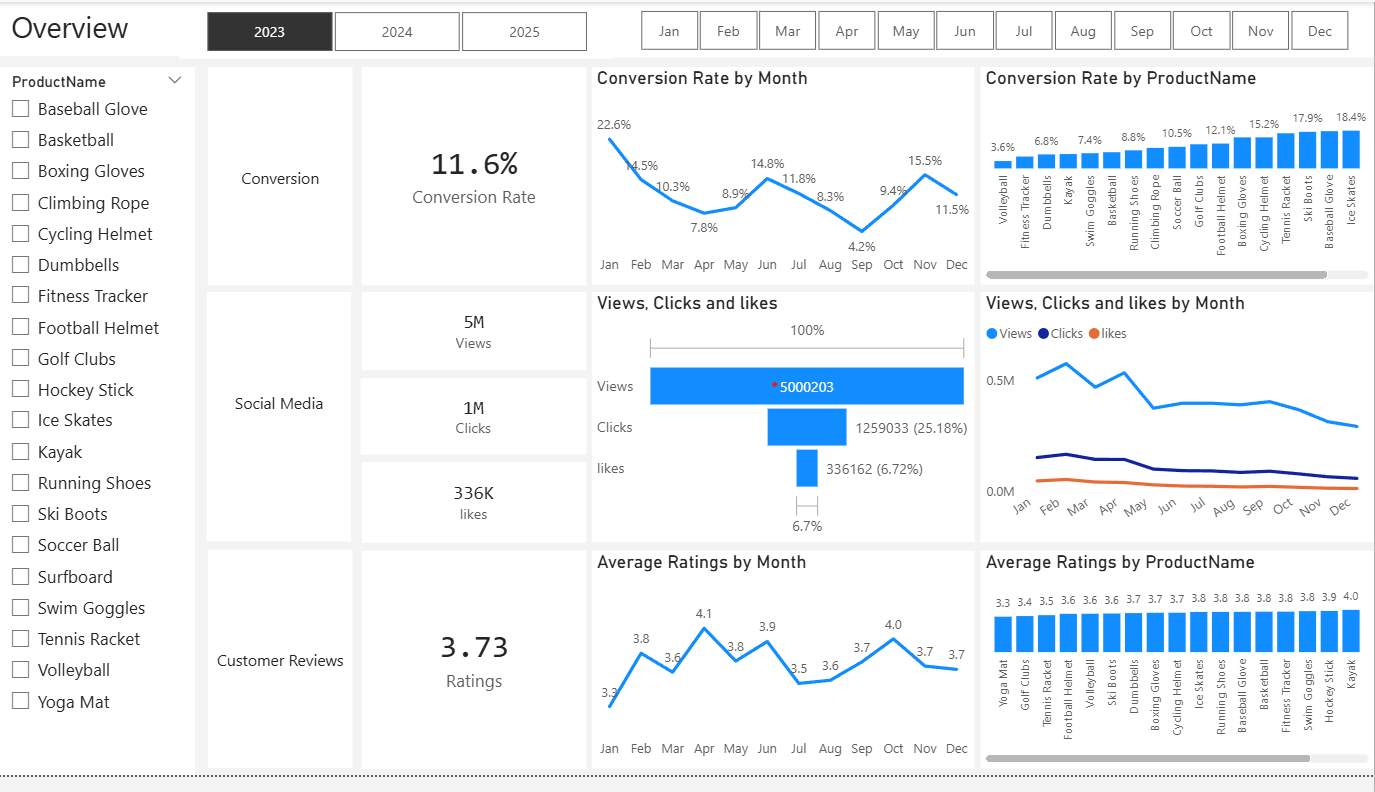

What the dashboard file says about the page in this screenshot:
{"tool":"powerbi","page":{"name":"Overview","canvas":[1280,720],"ordinal":0},"visuals":[{"type":"textbox","box":[0,0,1280.3,50.1],"z":0},{"type":"slicer","fields":{"Values":["Dim_Products.ProductName"]},"box":[0,59.9,183.4,660.3],"z":1000},{"type":"textbox","box":[195.7,59.9,134.5,203],"z":2000},{"type":"textbox","box":[195.7,509.9,134.5,203],"z":3000},{"type":"textbox","box":[194.4,270.2,134.5,232.3],"z":4000},{"type":"cardVisual","fields":{"Data":["Measures (2).Conversion_rate"]},"box":[338.7,59.9,209.1,203],"z":5000},{"type":"cardVisual","fields":{"Data":["Measures (2).Views"]},"box":[338.8,270,208.8,72.5],"z":6000},{"type":"cardVisual","fields":{"Data":["Measures (2).Average_Ratings"]},"box":[338.7,509.9,209.1,203],"z":7000},{"type":"cardVisual","fields":{"Data":["Measures (2).likes"]},"box":[338.8,427.5,208.8,75],"z":8000},{"type":"cardVisual","fields":{"Data":["Measures (2).Clicks"]},"box":[337.5,350,210,71.2],"z":9000},{"type":"slicer","fields":{"Values":["Dim_Calender.Year"]},"box":[168.8,2.4,403.5,50.1],"z":10000},{"type":"slicer","fields":{"Values":["Dim_Calender.MonthNameShort"]},"box":[572.3,1.2,708,50.1],"z":11000},{"type":"lineChart","fields":{"Y":["Measures (2).Conversion_rate"],"Category":["Dim_Calender.MonthNameShort"]},"box":[552.5,60,356.2,202.5],"z":12000},{"type":"clusteredColumnChart","fields":{"Category":["Dim_Products.ProductName"],"Y":["Measures (2).Conversion_rate"]},"box":[913.8,60,366.2,202.5],"z":13000},{"type":"lineChart","fields":{"Category":["Dim_Calender.MonthNameShort"],"Y":["Measures (2).Views","Measures (2).Clicks","Measures (2).likes"]},"box":[913.8,270,366.2,232.5],"z":14000},{"type":"funnel","fields":{"Y":["Measures (2).Views","Measures (2).Clicks","Measures (2).likes"]},"box":[552.5,270,356.2,232.5],"z":15000},{"type":"lineChart","fields":{"Category":["Dim_Calender.MonthNameShort"],"Y":["Measures (2).Average_Ratings"]},"box":[552.5,510,356.2,202.5],"z":16000},{"type":"clusteredColumnChart","fields":{"Category":["Dim_Products.ProductName"],"Y":["Measures (2).Average_Ratings"]},"box":[913.8,510,366.2,202.5],"z":17000}]}

Visuals, with their boxes in screenshot pixels (x1, y1, x2, y2), scaled from the page's 1280x720 canvas onto the 1375x792 screenshot:
textbox: 0,0,1374,55
slicer - Dim_Products.ProductName: 0,66,197,791
textbox: 210,66,355,289
textbox: 210,561,355,784
textbox: 209,297,353,553
cardVisual - Measures (2).Conversion_rate: 364,66,588,289
cardVisual - Measures (2).Views: 364,297,588,377
cardVisual - Measures (2).Average_Ratings: 364,561,588,784
cardVisual - Measures (2).likes: 364,470,588,553
cardVisual - Measures (2).Clicks: 363,385,588,463
slicer - Dim_Calender.Year: 181,3,615,58
slicer - Dim_Calender.MonthNameShort: 615,1,1374,56
lineChart - Measures (2).Conversion_rate x Dim_Calender.MonthNameShort: 594,66,976,289
clusteredColumnChart - Dim_Products.ProductName x Measures (2).Conversion_rate: 982,66,1374,289
lineChart - Dim_Calender.MonthNameShort x Measures (2).Views: 982,297,1374,553
funnel - Measures (2).Views x Measures (2).Clicks: 594,297,976,553
lineChart - Dim_Calender.MonthNameShort x Measures (2).Average_Ratings: 594,561,976,784
clusteredColumnChart - Dim_Products.ProductName x Measures (2).Average_Ratings: 982,561,1374,784
